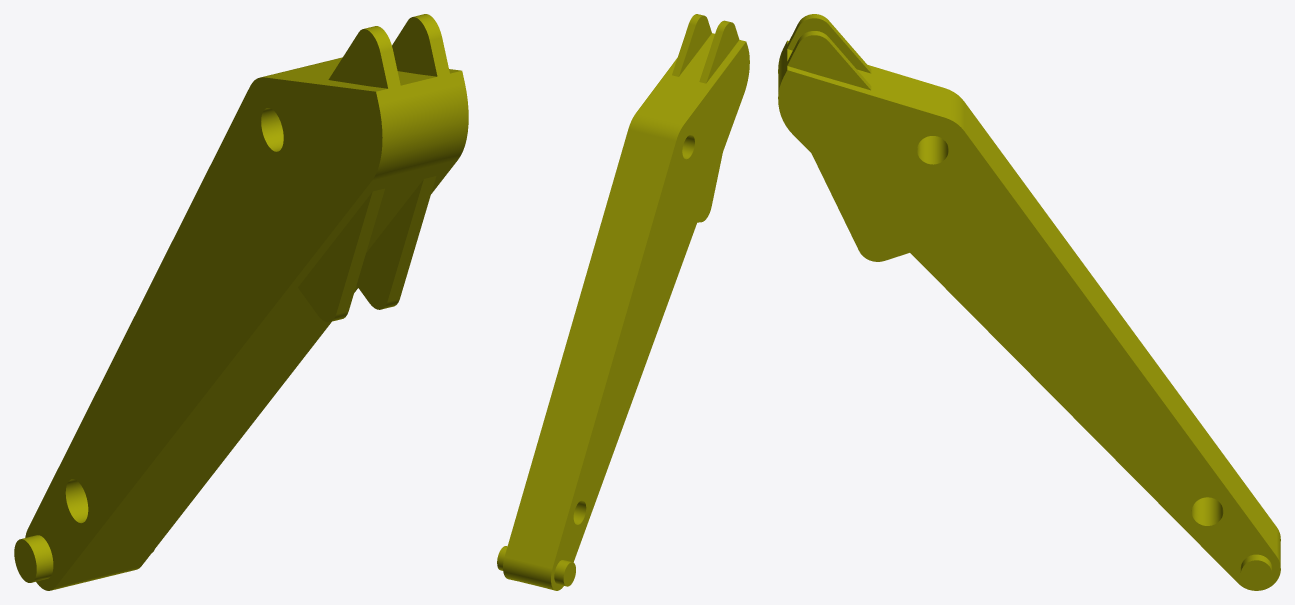
File: stick.obj
3 renders of one model, left to right at view 1: azimuth 30°, elevation 25°; view 2: azimuth 150°, elevation 25°; view 3: azimuth 270°, elevation 25°, orthographic. The views are drawn at different scales.
Visible parts, largest first — view 1: mesh_1_stick, mesh_2_Join1_face; view 2: mesh_1_stick, mesh_2_Join1_face; view 3: mesh_1_stick, mesh_2_Join1_face.
Part boxes in pixels (x1,y1,x2,y2): mesh_1_stick: (25,14,468,590); mesh_2_Join1_face: (14,535,154,582); mesh_1_stick: (503,14,749,590); mesh_2_Join1_face: (497,546,575,586); mesh_1_stick: (778,14,1280,590); mesh_2_Join1_face: (1240,554,1272,588).
Size of the model in its own units: 0.52 by 3.26 by 2.69.
